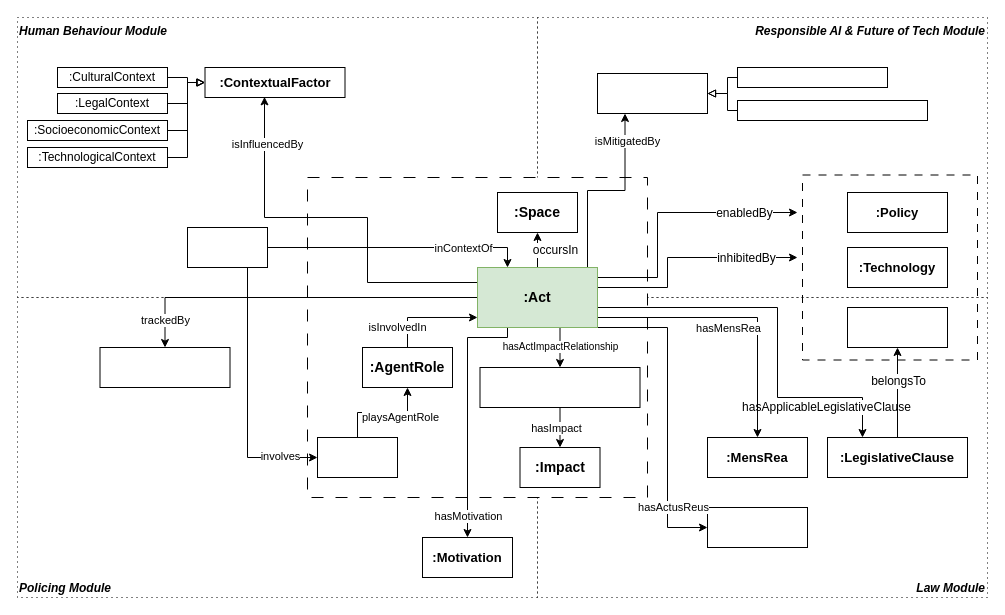
This 1005x615 diagram has some shape labels left out. The centre of each missing label's shape, as x and y in pixels:
:ActImpact Relationship: point (559, 387)
:ActusReus: point (757, 527)
:Agent: point (357, 457)
:CommunityIntervention: point (812, 77)
:Intervention: point (652, 93)
:Legislation: point (897, 327)
:Relation: point (227, 247)
:ResponsibleDesignIntervention: point (832, 110)
:TrackingAction: point (164, 367)
